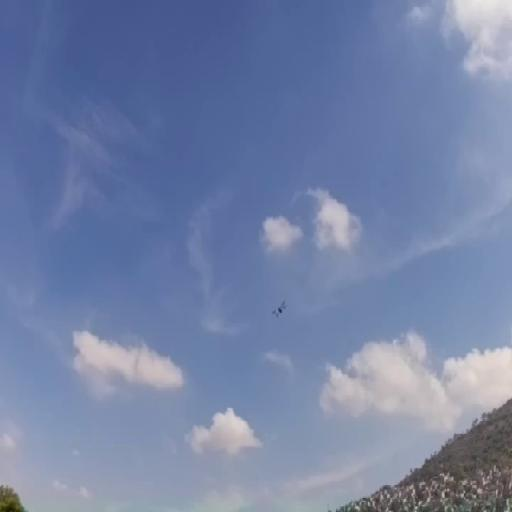drones: (268, 294, 294, 326)
